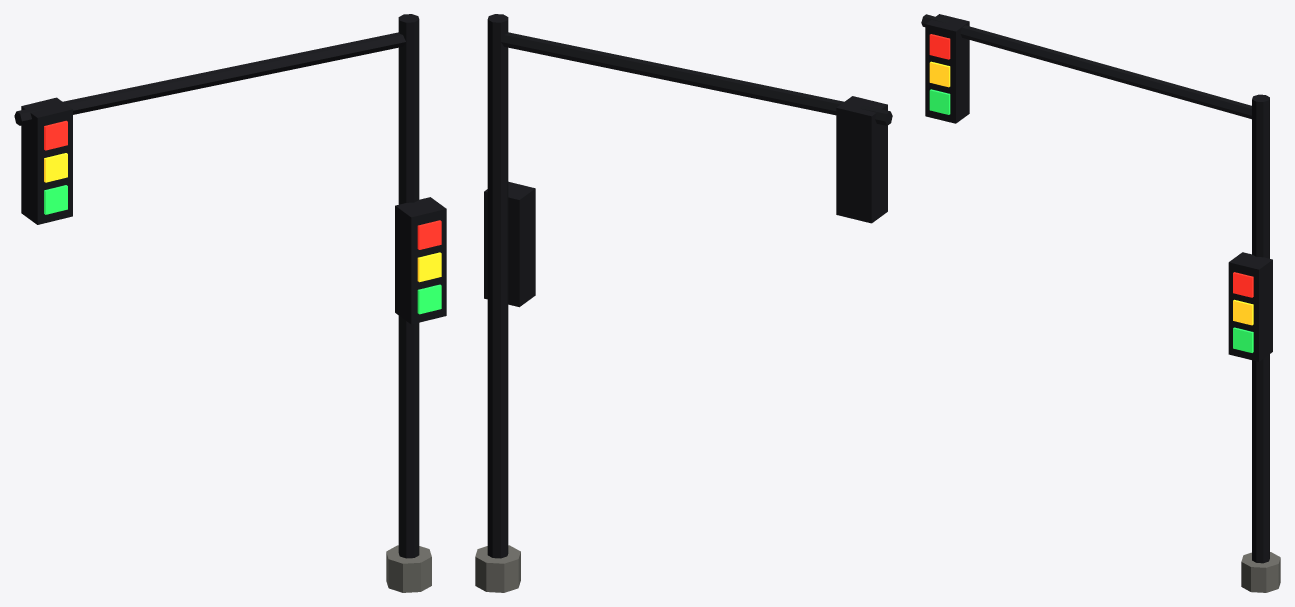
File: traffic_light.glb
The picture shows the model from 3 angles, left to right: view 1: azimuth 30°, elevation 25°; view 2: azimuth 150°, elevation 25°; view 3: azimuth 330°, elevation 25°; orthographic projection. The views are drawn at different scales.
Visible parts, largest first — view 1: traffic_light_Body, traffic_light_LitR, traffic_light_LitG, traffic_light_LitY; view 2: traffic_light_Body; view 3: traffic_light_Body, traffic_light_LitR, traffic_light_LitY, traffic_light_LitG.
Part boxes in pixels (bbox=[...]): traffic_light_Body: bbox=[14, 14, 446, 592]; traffic_light_LitR: bbox=[44, 120, 441, 249]; traffic_light_LitG: bbox=[44, 185, 441, 314]; traffic_light_LitY: bbox=[44, 153, 441, 282]; traffic_light_Body: bbox=[475, 14, 892, 592]; traffic_light_Body: bbox=[921, 14, 1280, 592]; traffic_light_LitR: bbox=[929, 34, 1253, 297]; traffic_light_LitY: bbox=[929, 61, 1253, 325]; traffic_light_LitG: bbox=[929, 89, 1253, 352].
Bounding box in the file's own units: 4.42 × 5.81 × 0.62.
